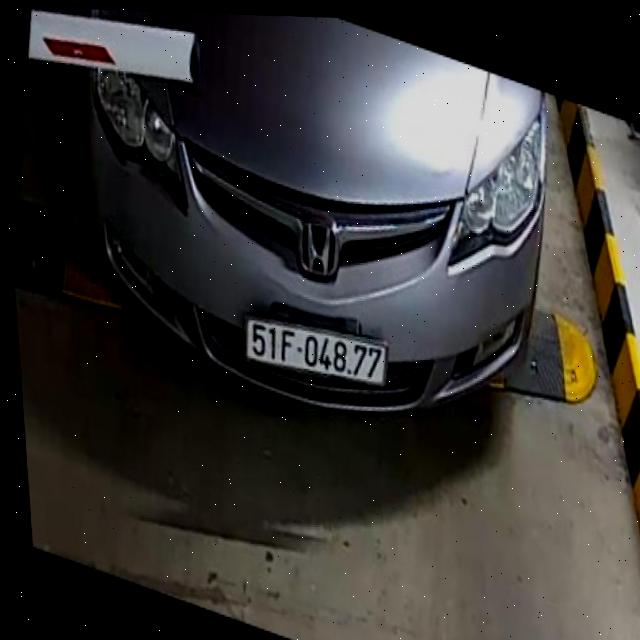car: (69, 4, 571, 436)
plate: (239, 307, 394, 399)
